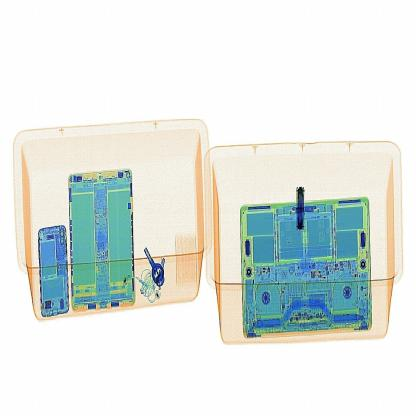scissors: (291, 180, 319, 233)
